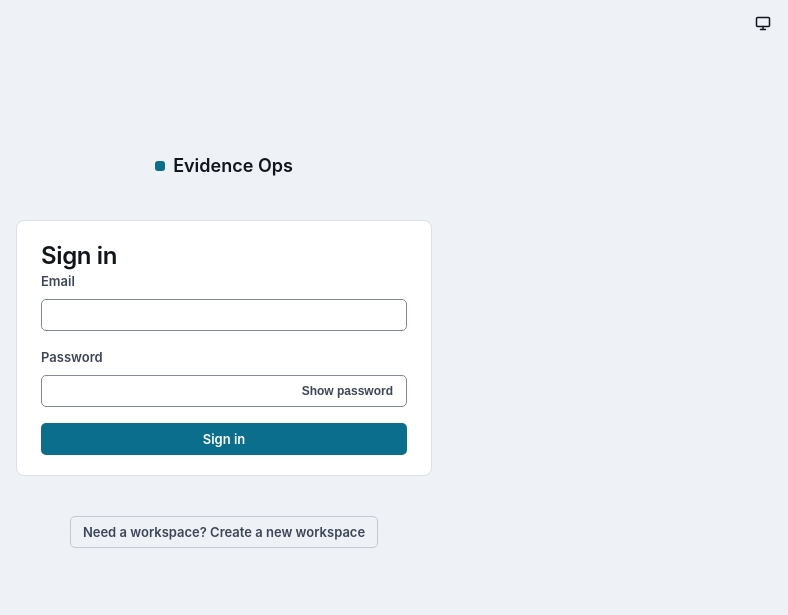
Test: LoginPage › shows the password length rule only once account creation is in view
The width and height of the screenshot is (788, 615).
Expected: the text "8–72 characters" is not shown
Click the button "Need a workspace? Create a new workspace" at [224, 532], box [70,516,378,548]
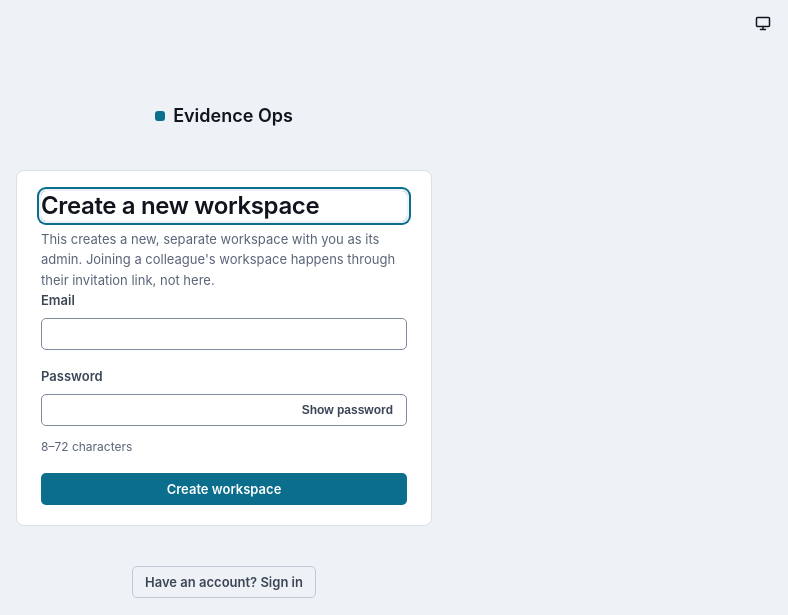
Now the text "8–72 characters" is shown, box [41,439,132,454]
